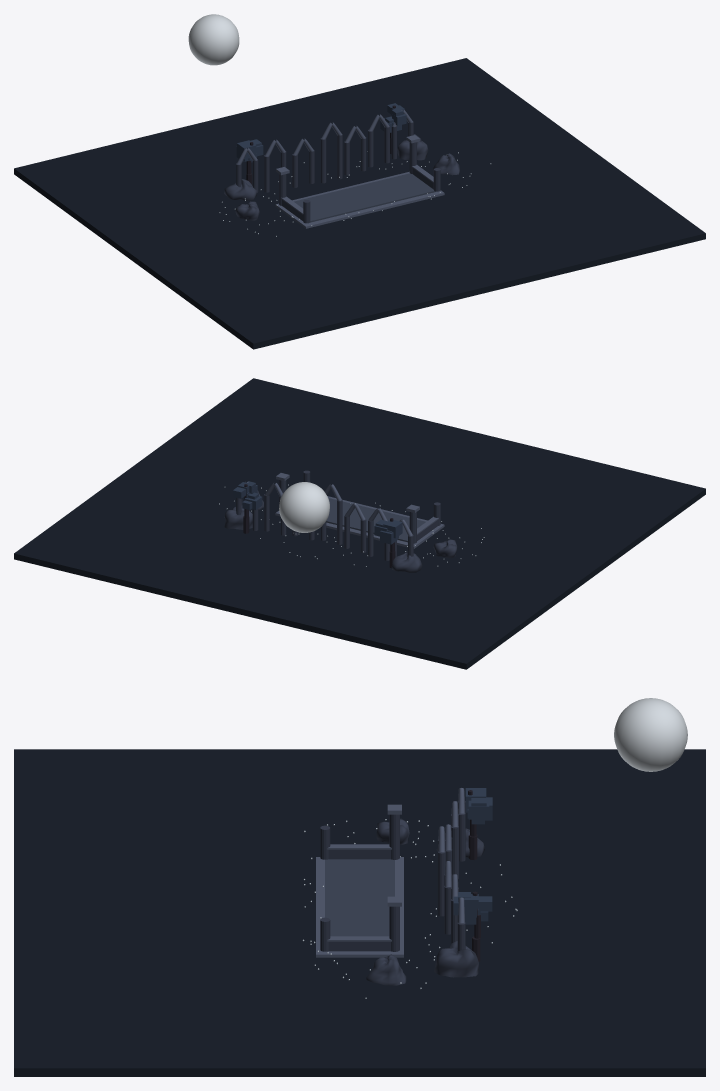
File: moonlit_wilderness.glb
3 renders of one model, top to bottom at view 1: azimuth 30°, elevation 25°; view 2: azimuth 150°, elevation 25°; view 3: azimuth 270°, elevation 25°, orthographic. The views are drawn at different scales.
Visible parts, largest first — view 1: mesh 1, mesh 0; view 2: mesh 1, mesh 0; view 3: mesh 1, mesh 0.
Boxes of the visible parts, left/top/right/bottom form: mesh 1: left=14, top=14, right=705, bottom=349; mesh 0: left=294, top=173, right=435, bottom=222; mesh 1: left=14, top=378, right=705, bottom=669; mesh 0: left=326, top=498, right=425, bottom=542; mesh 1: left=14, top=698, right=705, bottom=1076; mesh 0: left=325, top=859, right=394, bottom=936.
Size of the model in its own units: 48 by 13.78 by 44.
